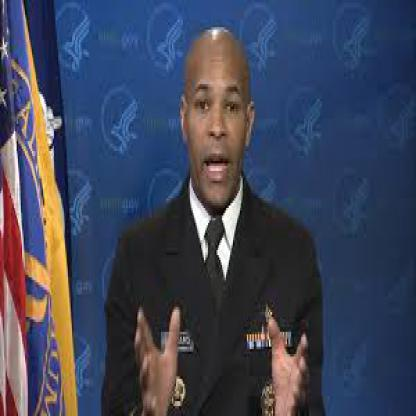Not_Wearing_Mask: (182, 32, 256, 213)
